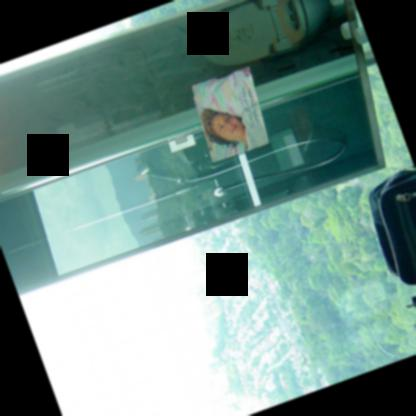suitcase: (369, 166, 416, 282)
